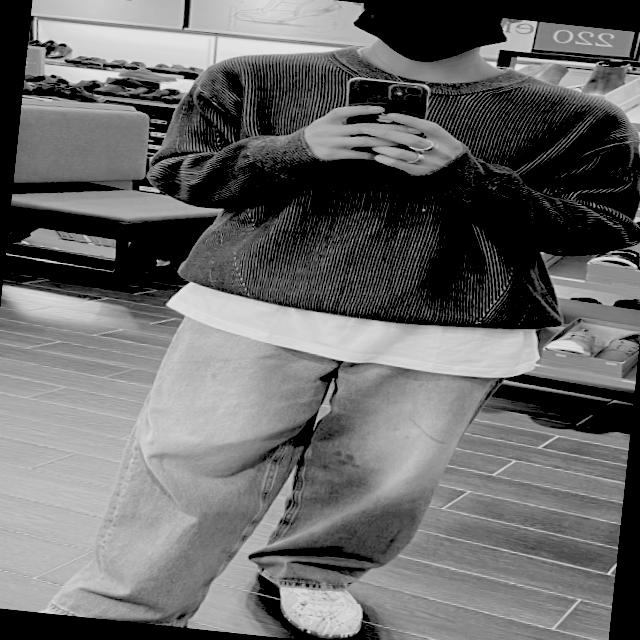denimpants: (46, 301, 504, 640)
sweater: (140, 29, 640, 348)
